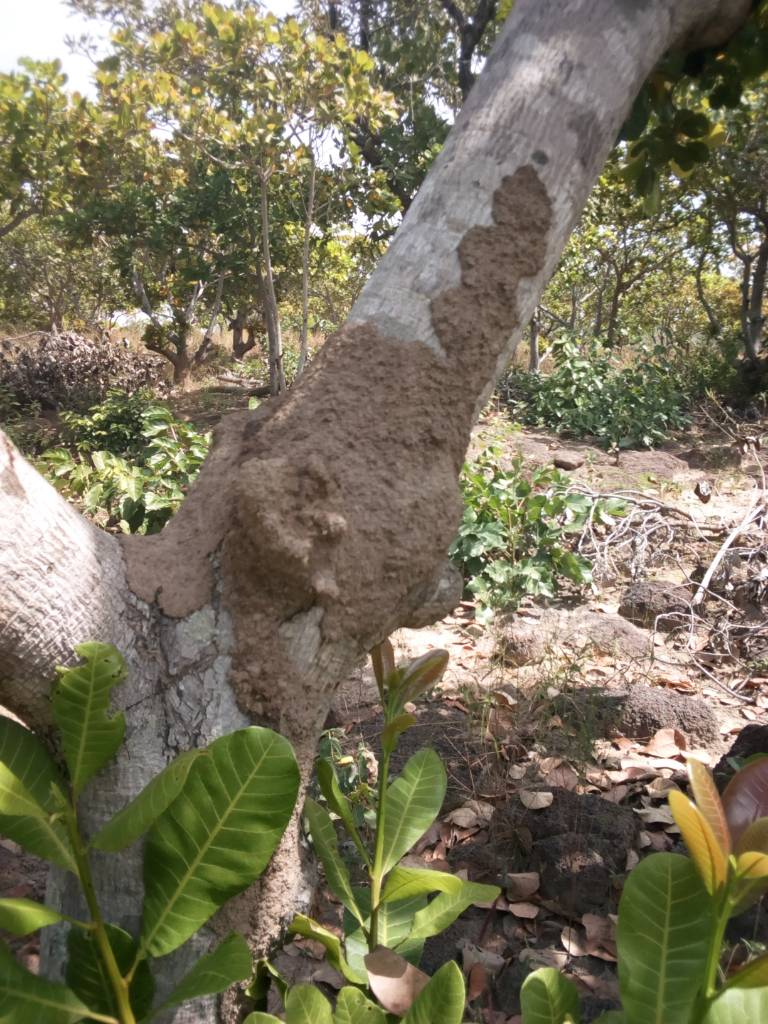Virose: (204, 154, 618, 691)
